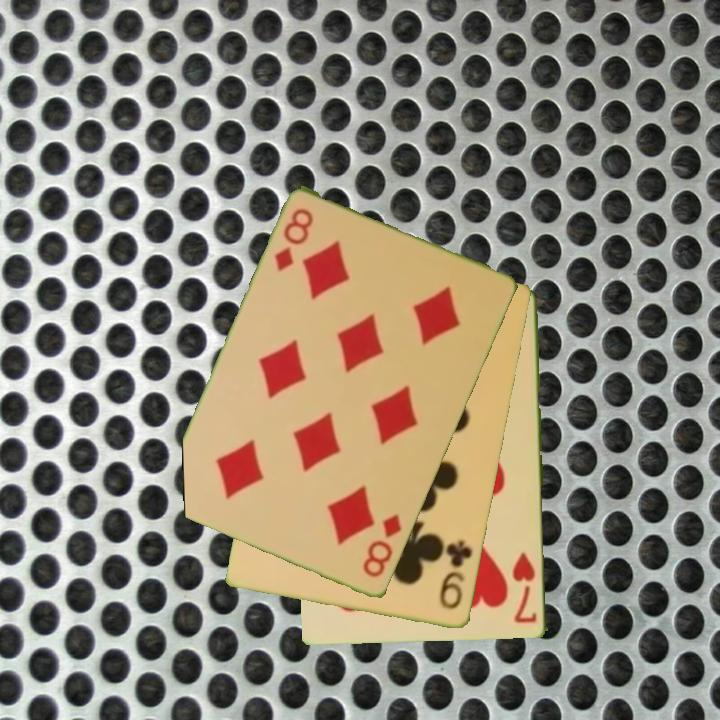7h: (510, 549, 540, 626)
8d: (359, 511, 405, 581), (271, 205, 317, 275)
9c: (436, 537, 476, 613)
